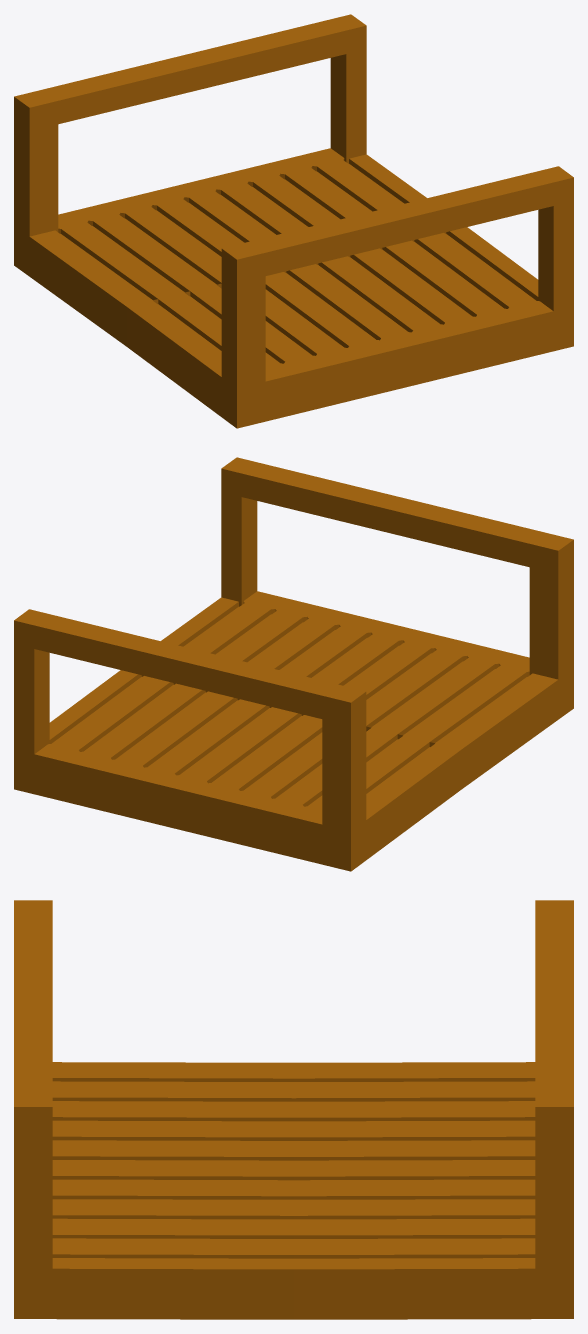
File: Small Bridge.fbx
The picture shows the model from 3 angles, top to bottom: view 1: azimuth 30°, elevation 25°; view 2: azimuth 150°, elevation 25°; view 3: azimuth 270°, elevation 25°; orthographic projection. The views are drawn at different scales.
Visible parts, largest first — view 1: B1; view 2: B1; view 3: B1.
Boxes of the visible parts, left/top/right/bottom form: B1: left=14, top=14, right=573, bottom=428; B1: left=14, top=457, right=573, bottom=871; B1: left=14, top=900, right=573, bottom=1319.
Size of the model in its own units: 253 by 121 by 289.
